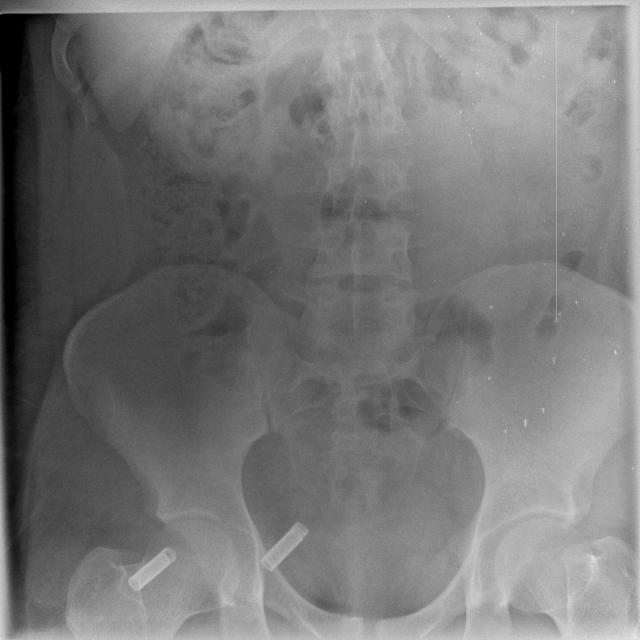normal-left: (493, 518, 640, 640)
normal-right: (66, 521, 241, 640)
